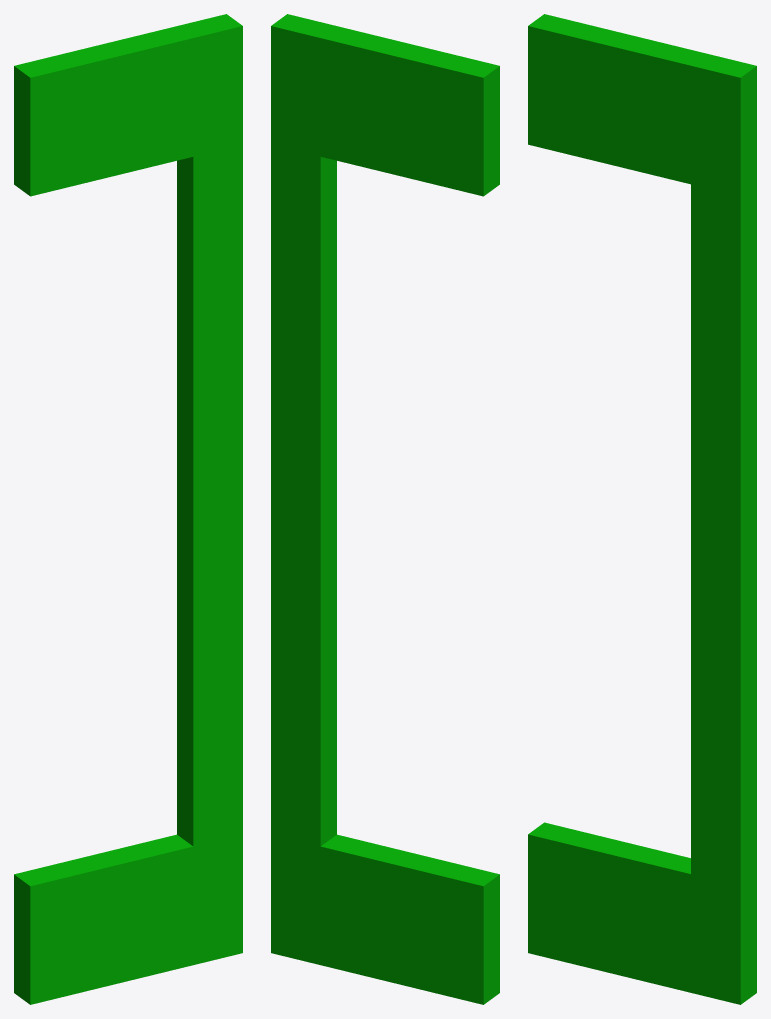
File: marking.gltf
The picture shows the model from 3 angles, left to right: view 1: azimuth 30°, elevation 25°; view 2: azimuth 150°, elevation 25°; view 3: azimuth 330°, elevation 25°; orthographic projection.
Visible parts, largest first — view 1: mesh91145, mesh91143, mesh91140, mesh91144, mesh91147, mesh91141; view 2: mesh91146, mesh91143, mesh91140, mesh91144, mesh91147, mesh91141; view 3: mesh91145, mesh91149, mesh91140, mesh91144.
Part boxes in pixels (box(x1,y1,x2,y2)): mesh91145: box(30, 26, 242, 1004); mesh91143: box(177, 157, 193, 845); mesh91140: box(14, 14, 242, 77); mesh91144: box(14, 834, 192, 886); mesh91147: box(14, 874, 30, 1004); mesh91141: box(14, 66, 30, 195); mesh91146: box(271, 26, 483, 1004); mesh91143: box(320, 157, 336, 845); mesh91140: box(271, 14, 499, 77); mesh91144: box(321, 834, 499, 886); mesh91147: box(483, 874, 499, 1004); mesh91141: box(483, 66, 499, 195); mesh91145: box(528, 26, 740, 1004); mesh91149: box(740, 66, 756, 1004); mesh91140: box(528, 14, 756, 77); mesh91144: box(528, 822, 690, 873).
Bounding box in the file's own units: 0.0003 × 0.00125 × 4e-05.
